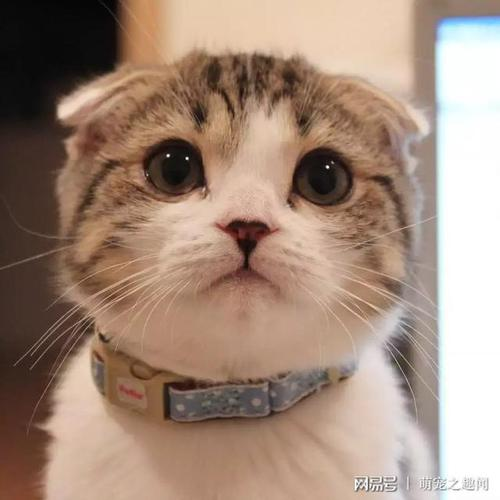cat: (46, 46, 421, 381)
